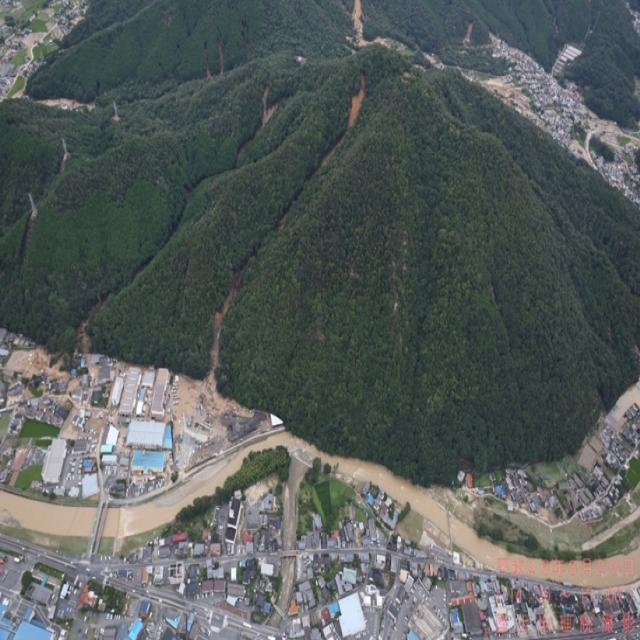Debris-flow: (351, 0, 374, 47), (346, 75, 365, 128), (254, 100, 278, 136), (321, 136, 345, 166), (39, 98, 82, 109), (374, 39, 392, 48), (430, 59, 442, 68), (86, 101, 94, 108)
